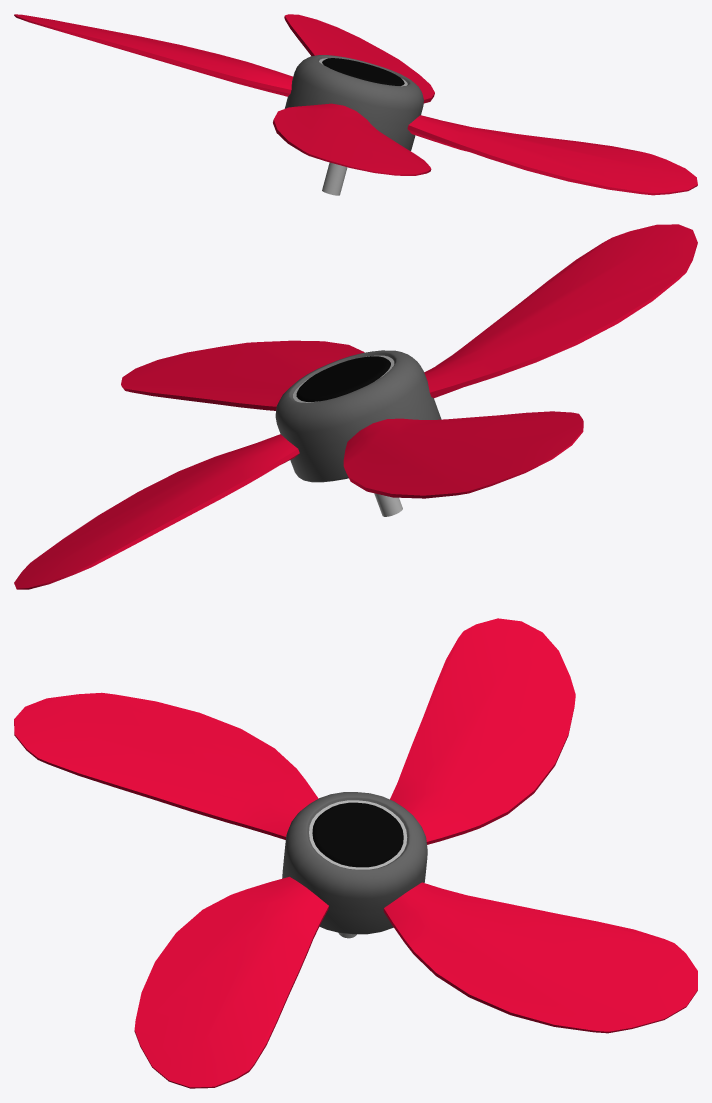
Rendered from propeller.fbx.
3 renders of one model, top to bottom at view 1: azimuth 30°, elevation 25°; view 2: azimuth 150°, elevation 25°; view 3: azimuth 270°, elevation 25°, orthographic. The views are drawn at different scales.
Parts seen in each view (by area): view 1: Propeller; view 2: Propeller; view 3: Propeller.
Part boxes in pixels (box(x1,y1,x2,y2)): Propeller: box(14, 14, 697, 195); Propeller: box(14, 224, 697, 589); Propeller: box(14, 618, 697, 1088).
Size of the model in its own units: 929 by 306 by 972.
